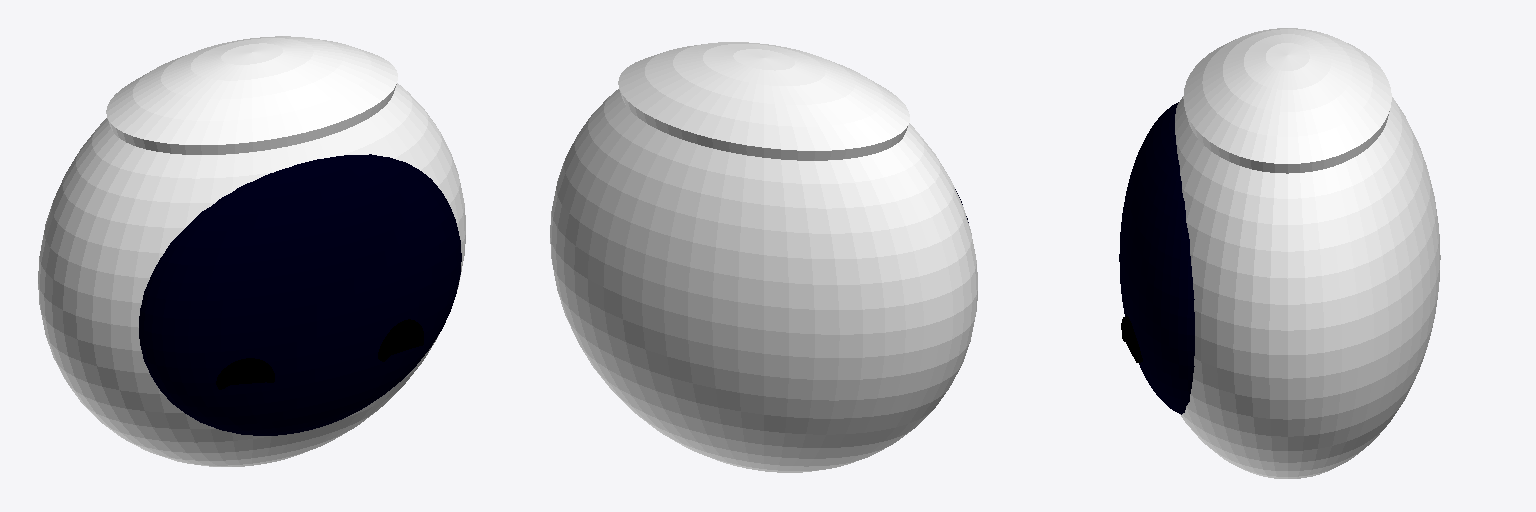
The model's file is Robot.obj.
3 renders of one model, left to right at view 1: azimuth 30°, elevation 25°; view 2: azimuth 150°, elevation 25°; view 3: azimuth 270°, elevation 25°, orthographic.
Visible parts, largest first — view 1: Head, Front, Left_eye, Right_eye; view 2: Head; view 3: Head, Front.
Part boxes in pixels (bbox=[...]): Head: bbox=[38, 36, 465, 466]; Front: bbox=[139, 154, 461, 435]; Left_eye: bbox=[216, 358, 274, 389]; Right_eye: bbox=[378, 319, 423, 361]; Head: bbox=[550, 42, 977, 472]; Head: bbox=[1175, 28, 1440, 478]; Front: bbox=[1119, 102, 1194, 414].
Bounding box in the file's own units: 65.27 × 62.56 × 45.36.